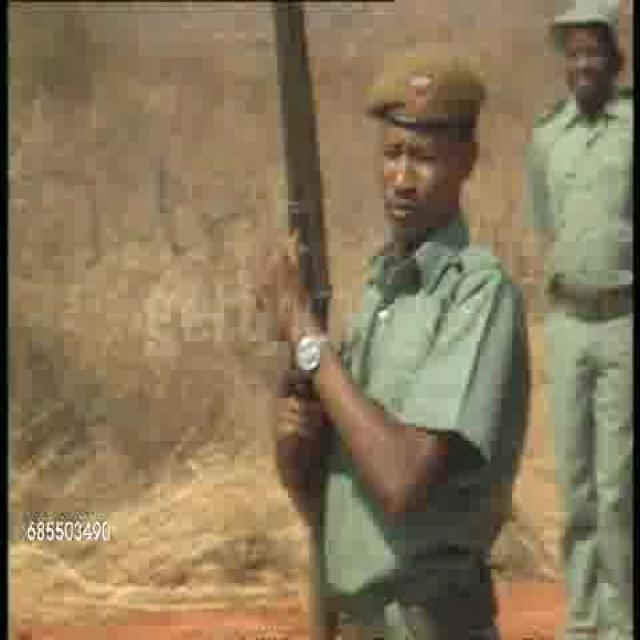Hunter: (525, 1, 640, 572)
Rifle: (278, 2, 334, 578)
